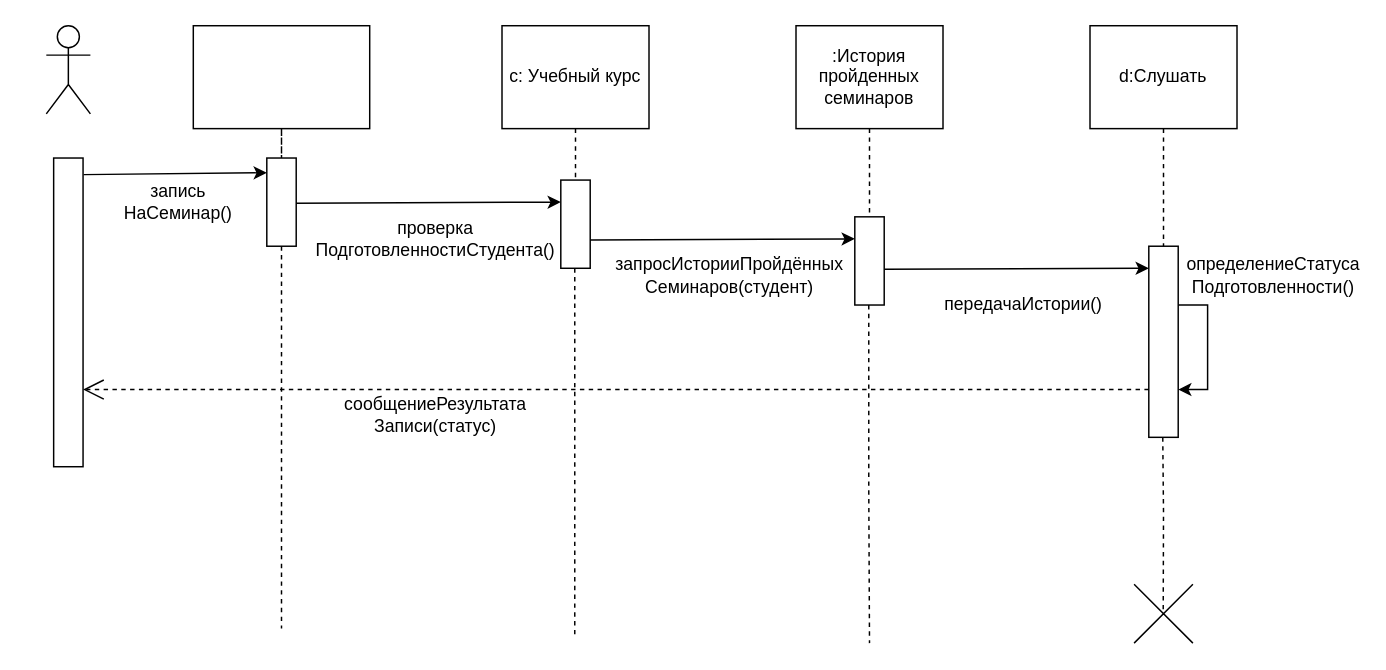
Image size: 1386x670. Some labels were removed from this diagram. Here are the shapes that lost their labels. From the top down, the centre of each, then its label:
At (x=67, y=69): "a: Студент".
At (x=281, y=76): "b: Семинар курса".
